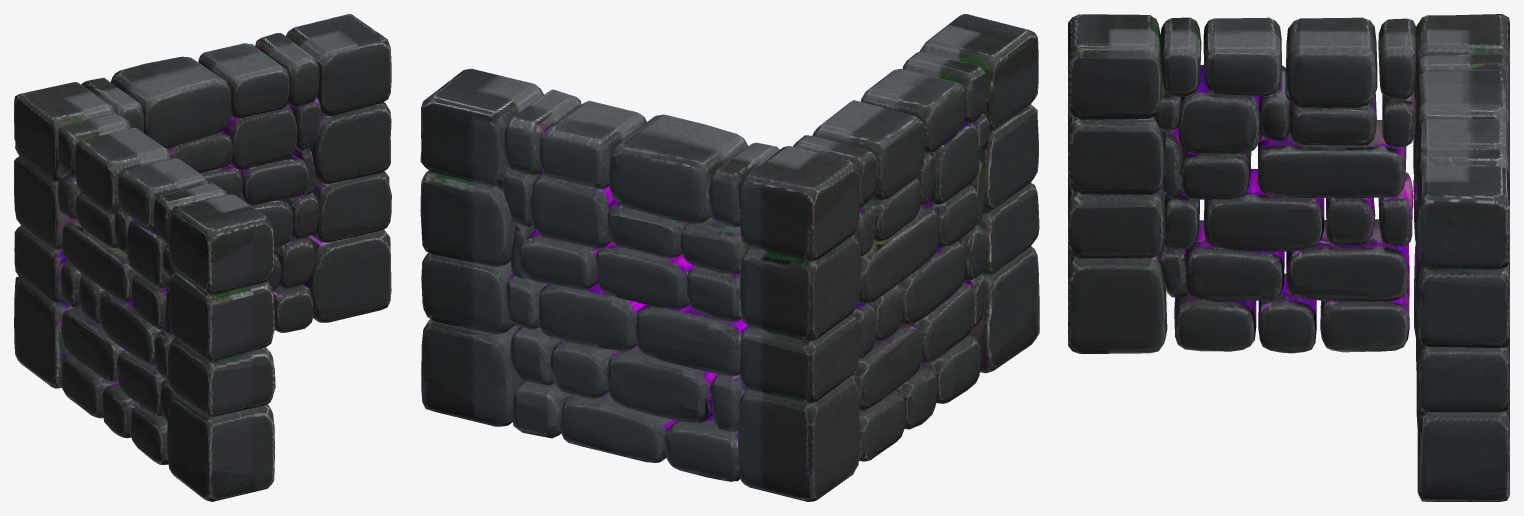
The model's file is wall_corner_controlled.glb.
3 views of the same model, side by side, from view 1: azimuth 30°, elevation 25°; view 2: azimuth 150°, elevation 25°; view 3: azimuth 270°, elevation 25° (orthographic). The views are drawn at different scales.
Bounding box in the file's own units: 1 × 0.7773 × 1.
1 material, 1 textured.
